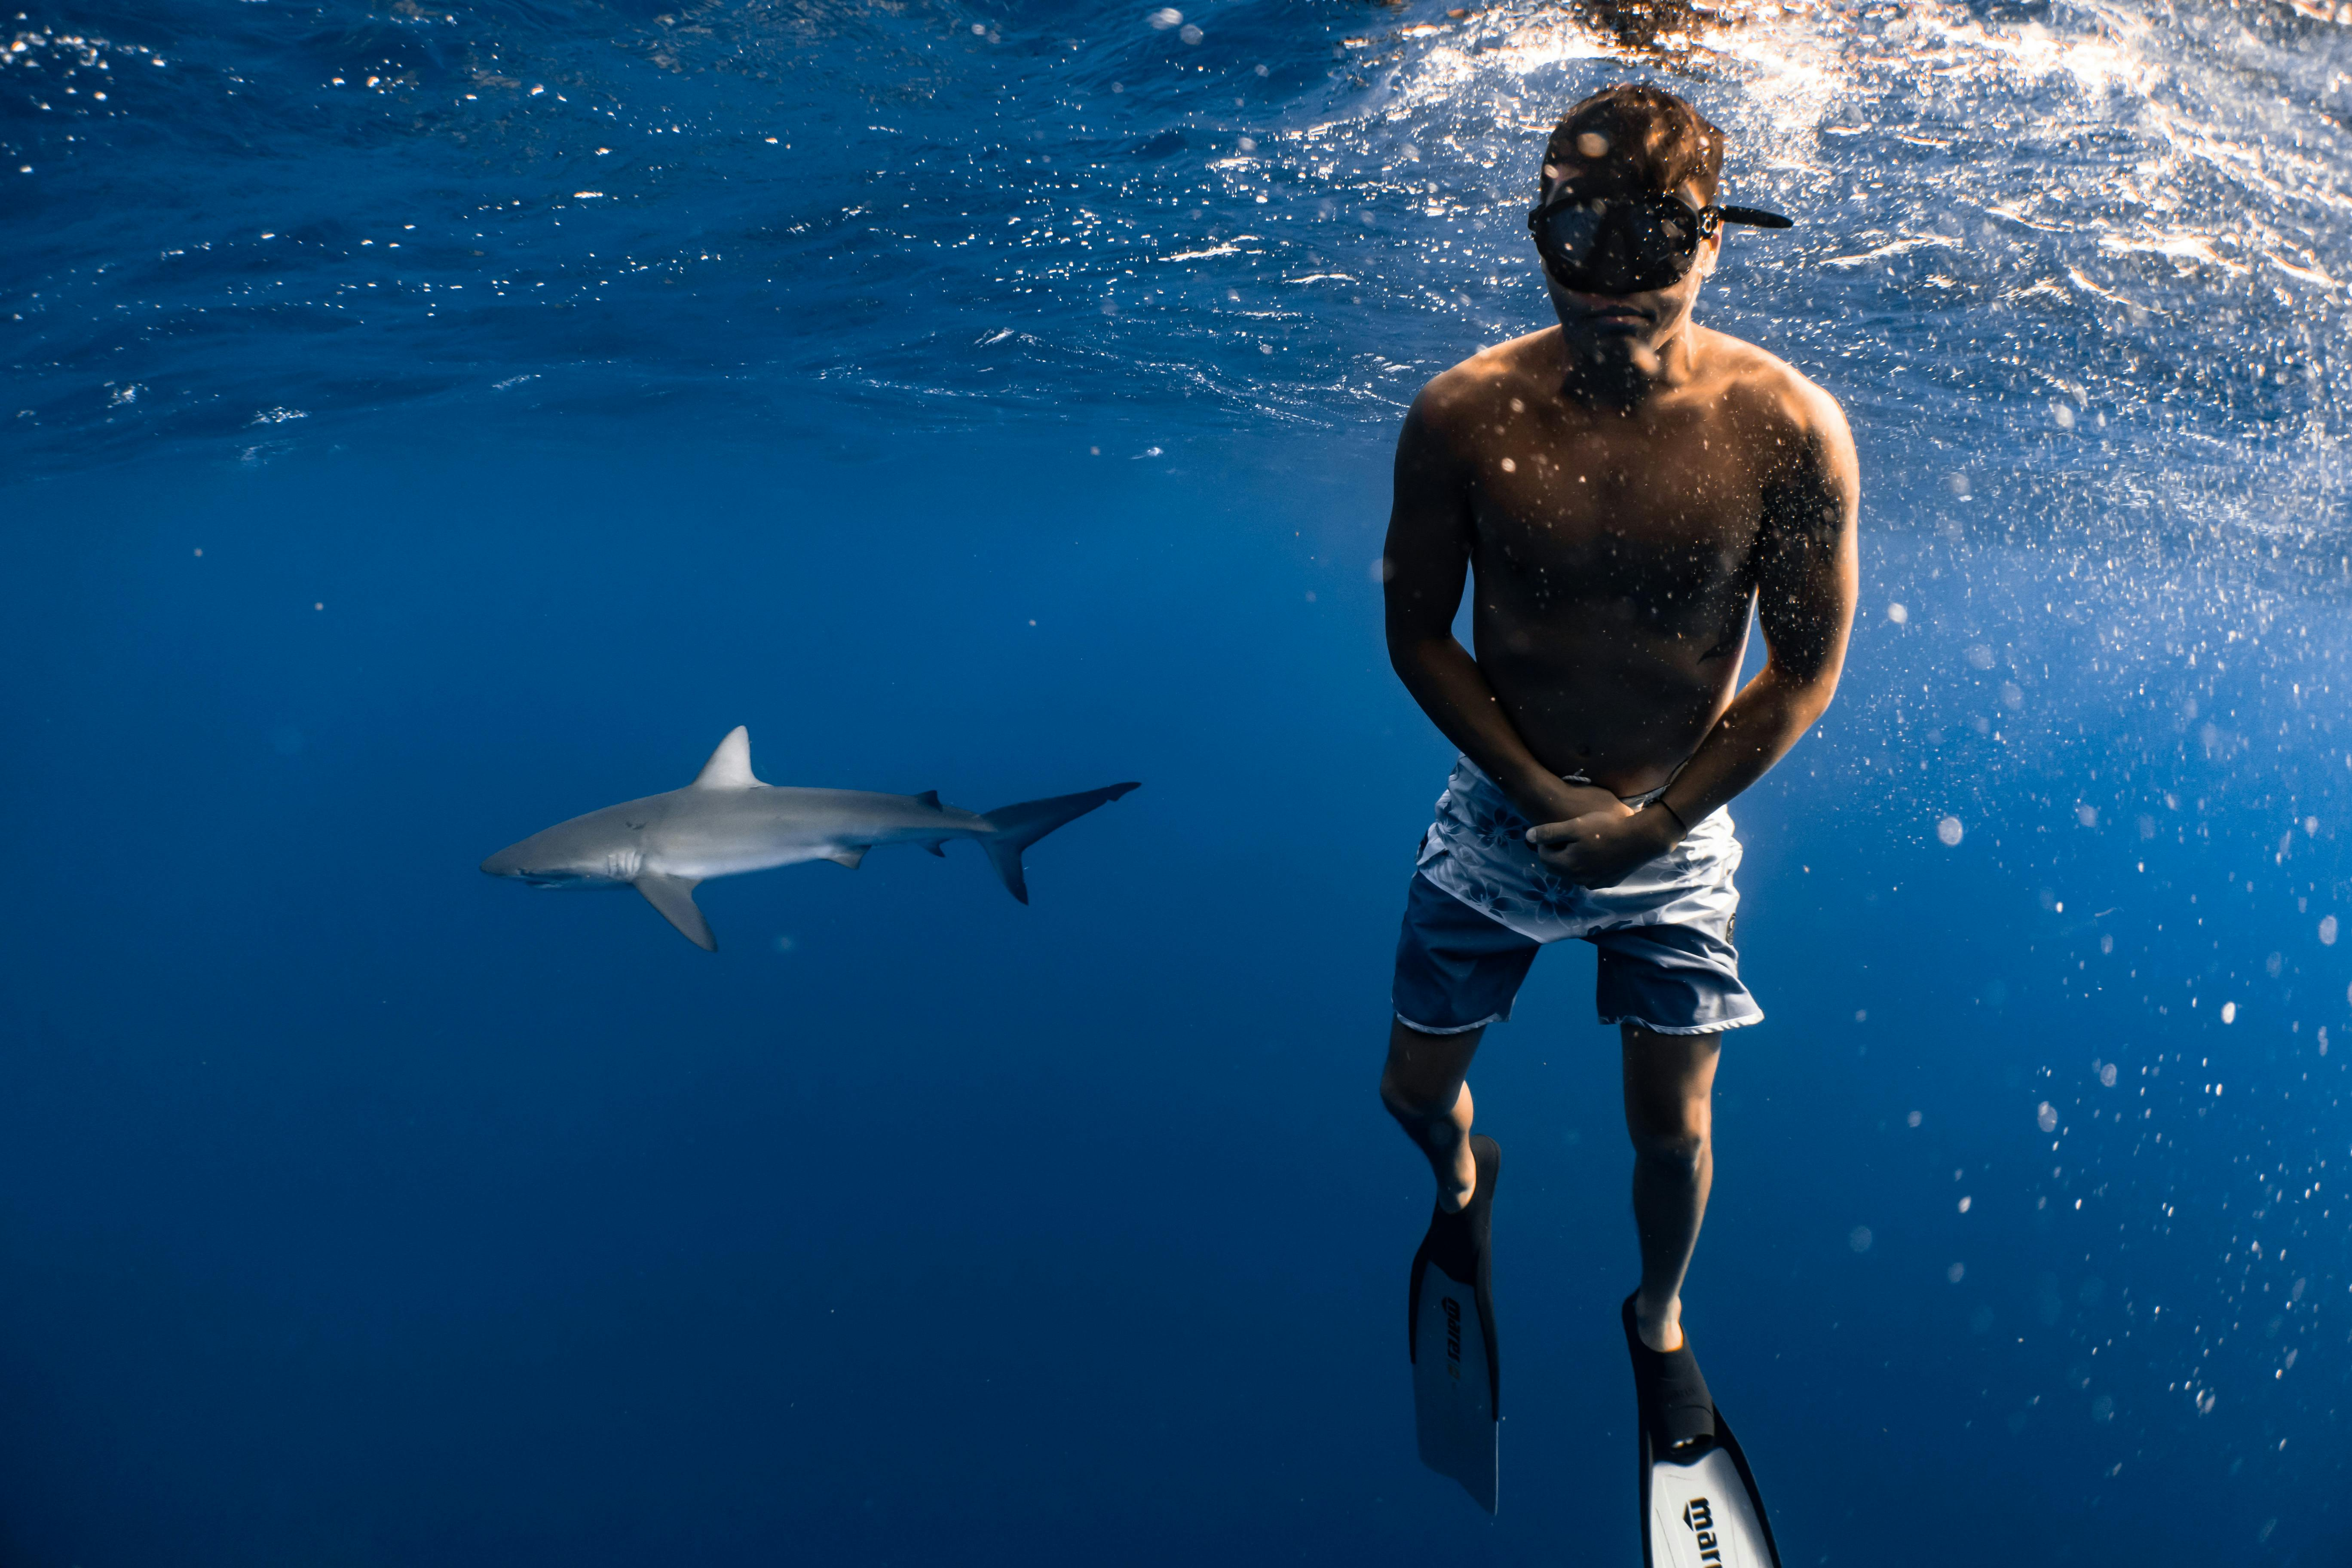shark: (469, 721, 1148, 957)
